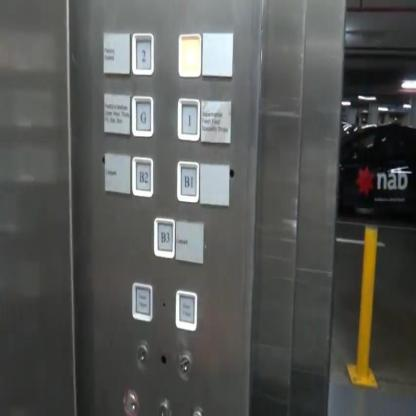1: (176, 95, 200, 142)
2: (130, 30, 154, 76)
B1: (176, 158, 200, 204)
B2: (130, 152, 154, 198)
B3: (152, 214, 175, 260)
G: (130, 92, 154, 138)
empty: (176, 31, 202, 79)
keyhole: (122, 388, 139, 415), (176, 352, 192, 380), (135, 340, 148, 365)
text: (174, 288, 197, 332), (131, 280, 153, 322)
